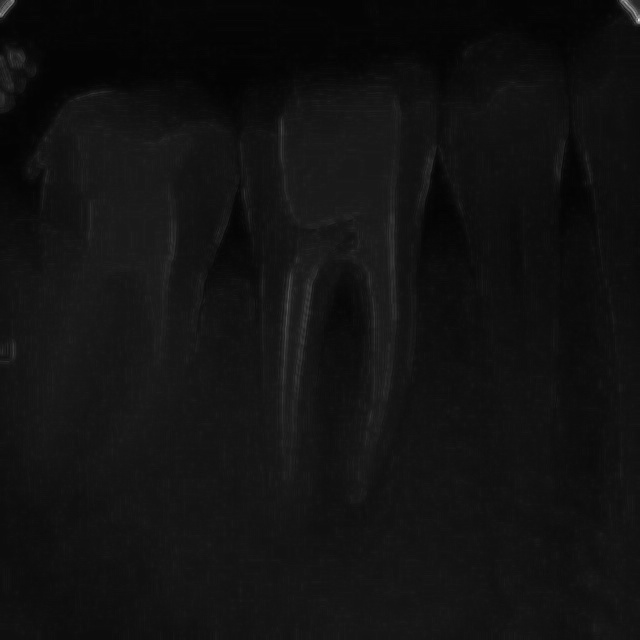Class 0- No endodontic treatment: (244, 48, 468, 574), (7, 81, 240, 566)
